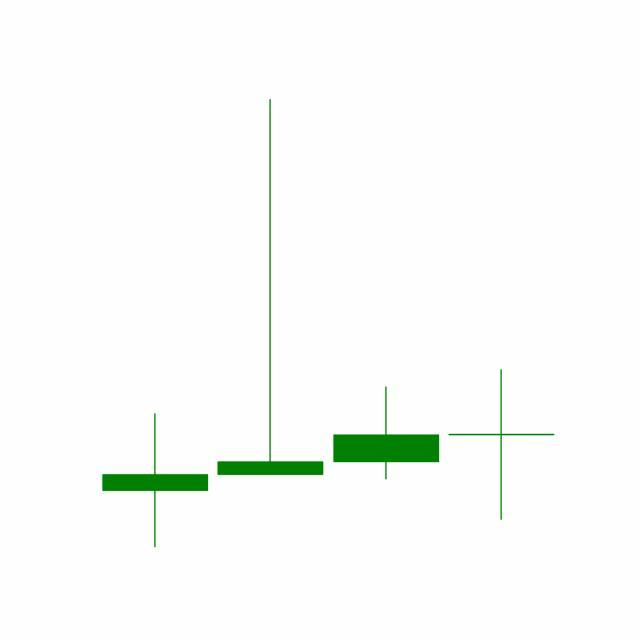Spinning Top: (444, 368, 560, 523)
